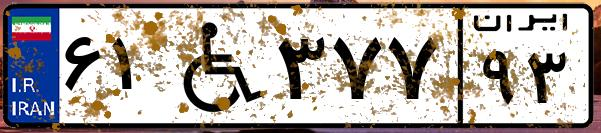1: (110, 28, 158, 98)
3: (270, 28, 330, 110), (525, 38, 570, 115)
6: (57, 26, 110, 100)
7: (385, 28, 445, 110), (330, 28, 385, 110)
9: (475, 38, 525, 113)
ژ (معلولین و جانبازان): (158, 12, 270, 120)
